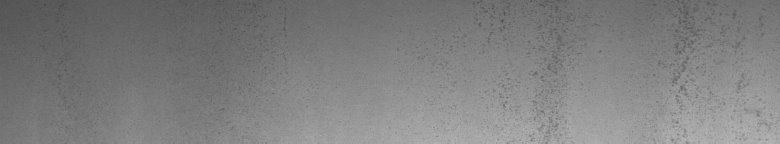ib: (473, 4, 572, 135)
